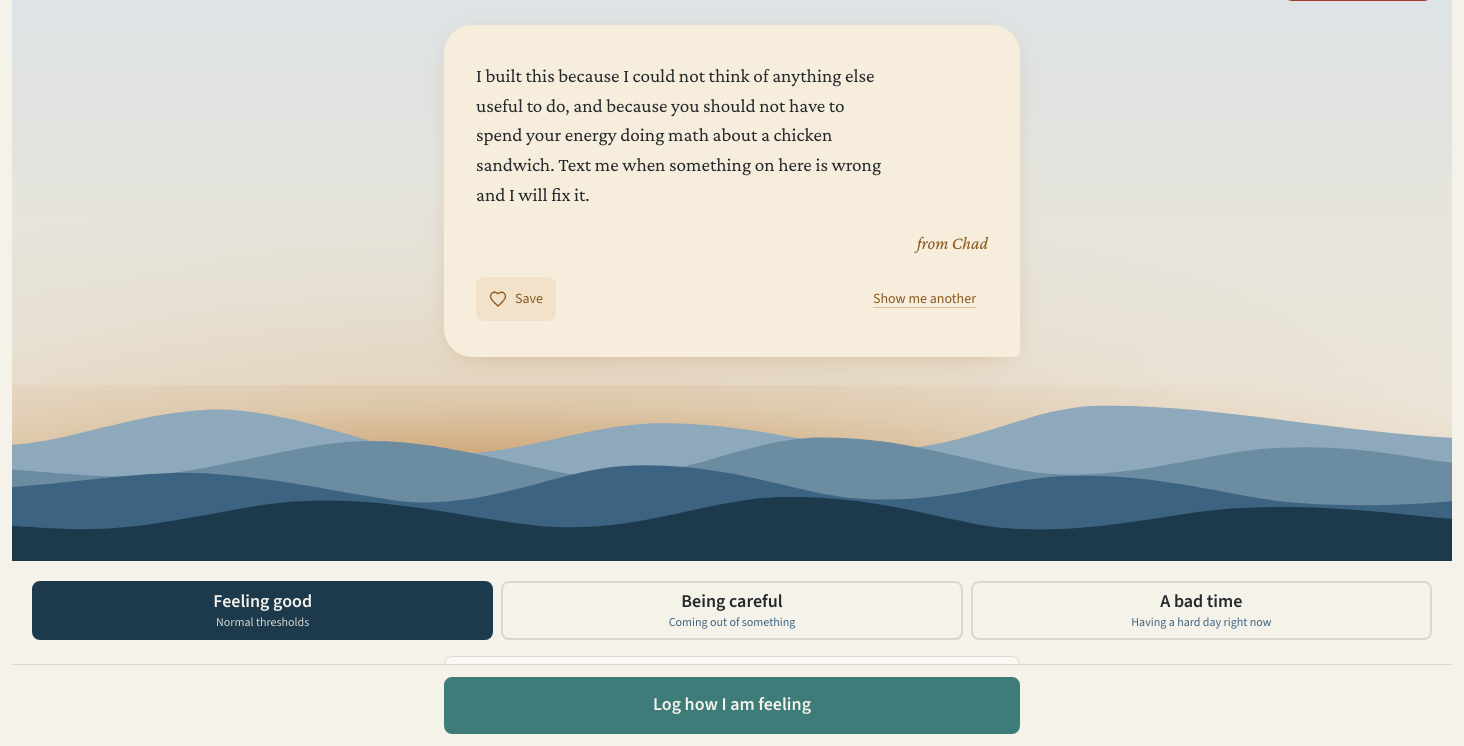
Test: FlareGate, invariant 1 › re-arms when she leaves flare mode and comes back
The width and height of the screenshot is (1464, 746).
Click the radio button labelled "A bad time Having a hard day right now".
click(1201, 610)  # box [971, 580, 1432, 640]
(page scrolled)
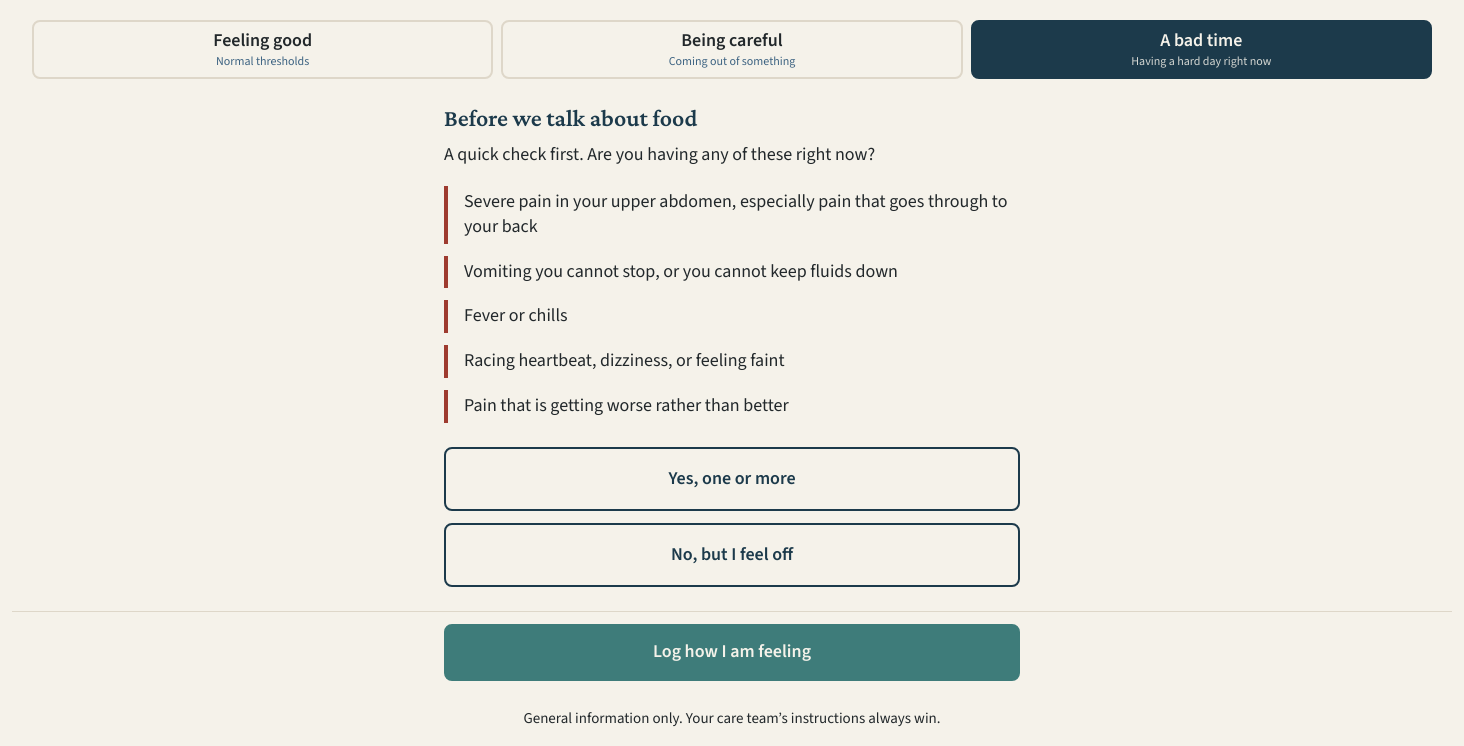
Click the radio button labelled "Feeling good Normal thresholds".
click(263, 50)  # box [32, 20, 493, 79]
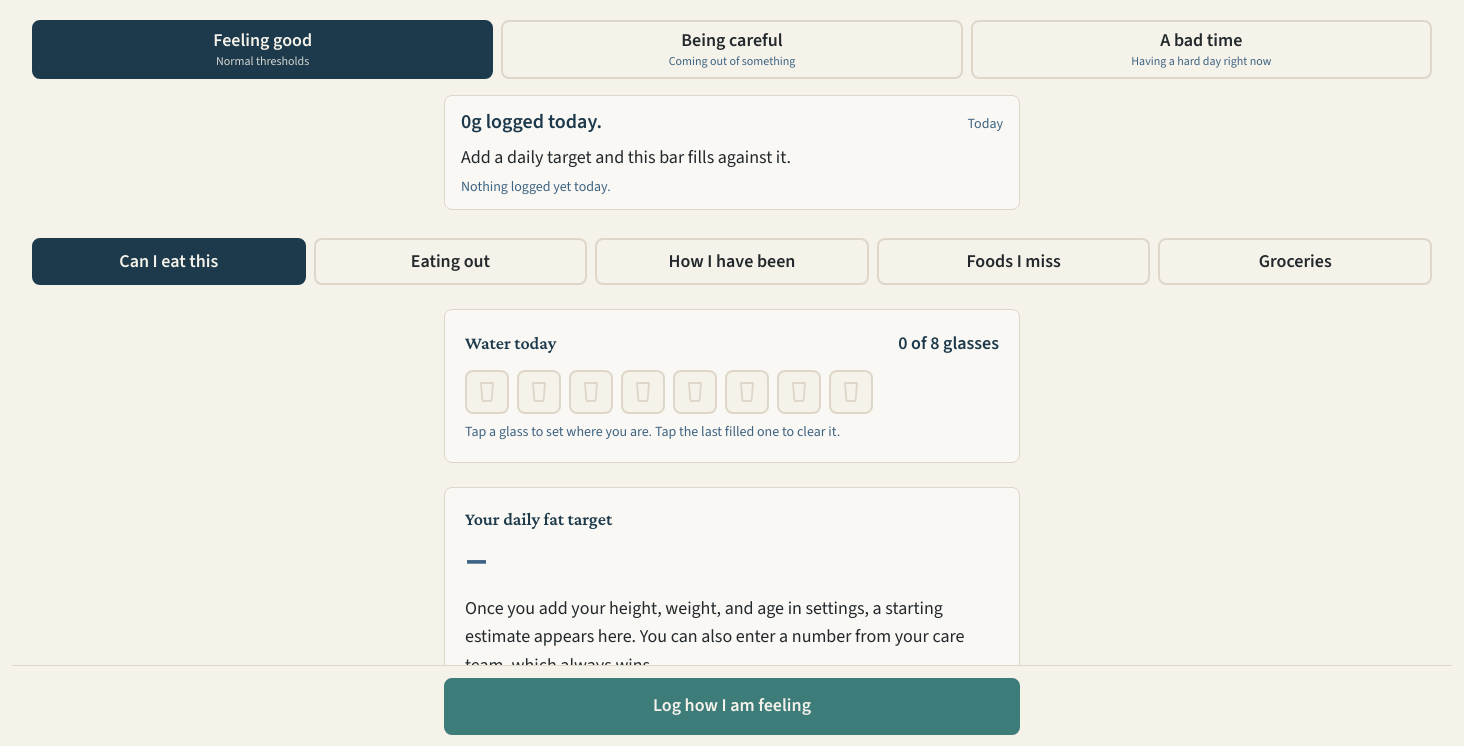
Check: the element named "Screens" is shown, box [32, 238, 1432, 285]
Click the radio button labelled "A bad time Having a hard day right now".
click(1201, 50)  # box [971, 20, 1432, 79]
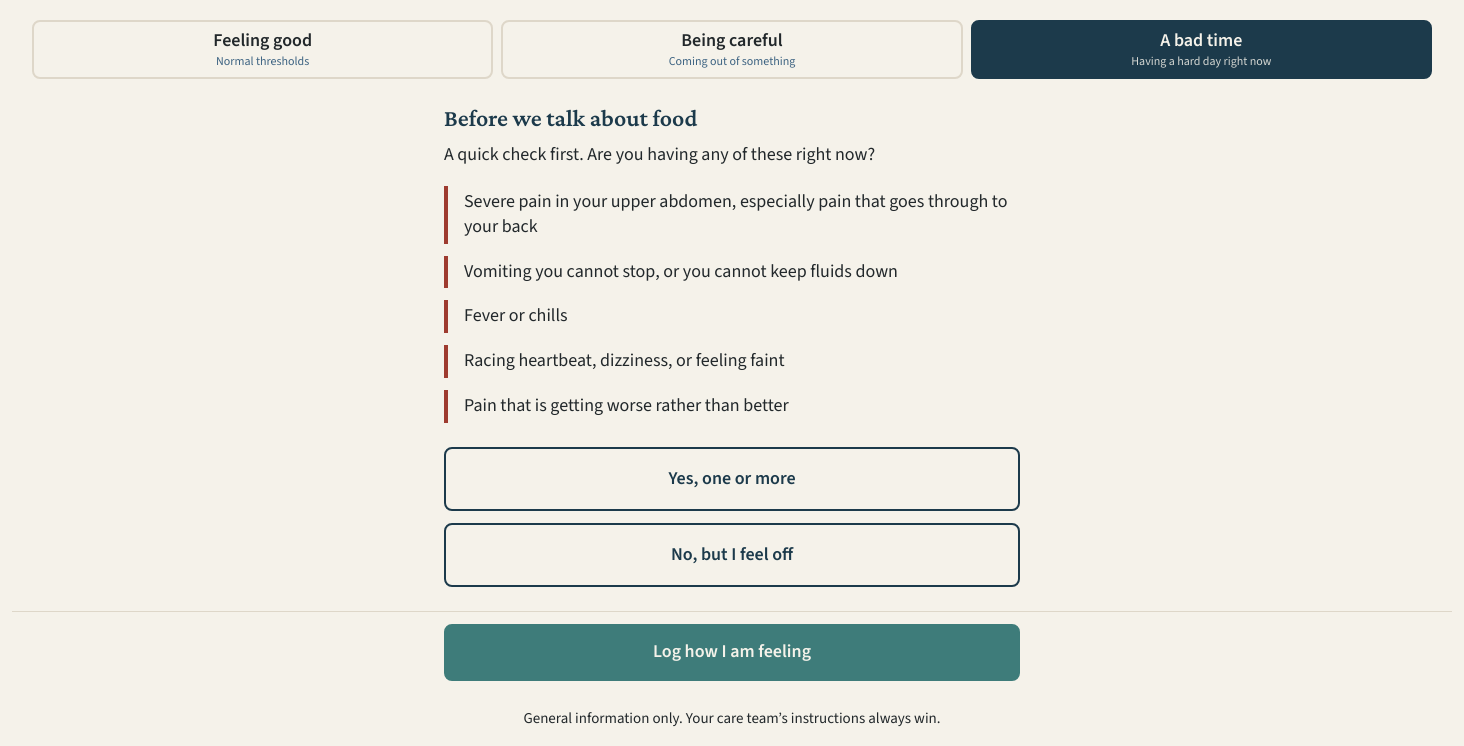
Check: the element "Screens" is gone
